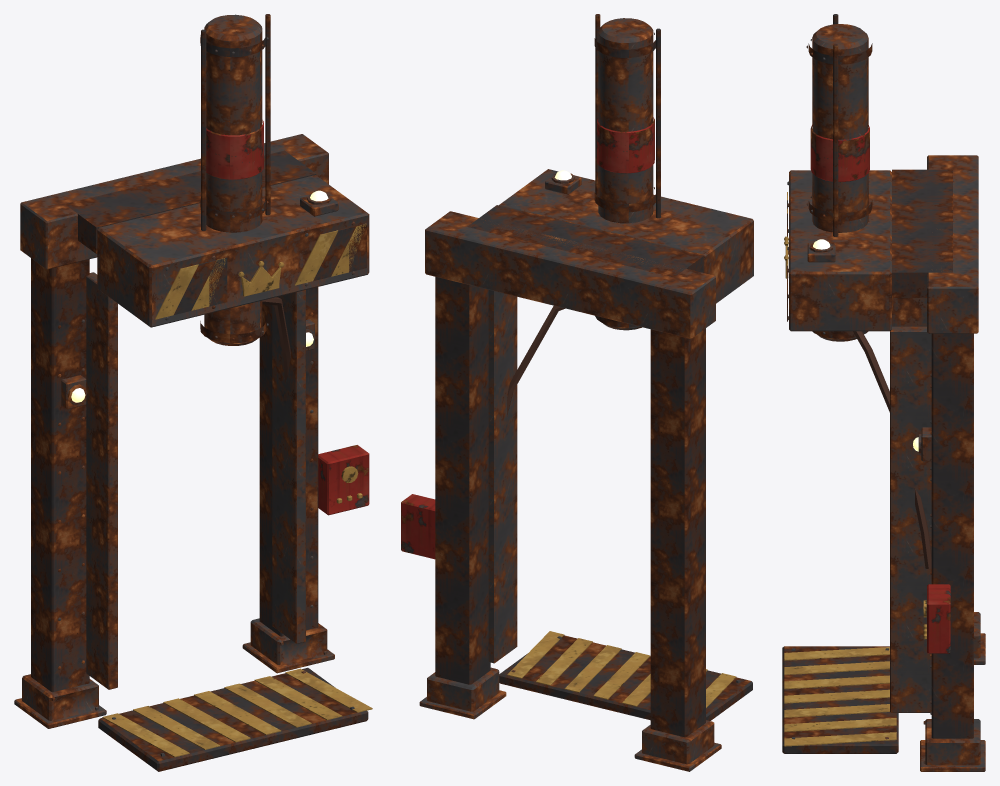
File: Press_Frame.glb
3 views of the same model, side by side, from view 1: azimuth 30°, elevation 25°; view 2: azimuth 150°, elevation 25°; view 3: azimuth 270°, elevation 25° (orthographic). The views are drawn at different scales.
Parts seen in each view (by area): view 1: Press_Frame; view 2: Press_Frame; view 3: Press_Frame.
Boxes of the visible parts, x1,y1,x2,y2 form: Press_Frame: (14, 14, 372, 771); Press_Frame: (401, 14, 753, 771); Press_Frame: (782, 14, 985, 771).
Size of the model in its own units: 3.85 by 7.95 by 2.17.
5 materials, 4 textured.
